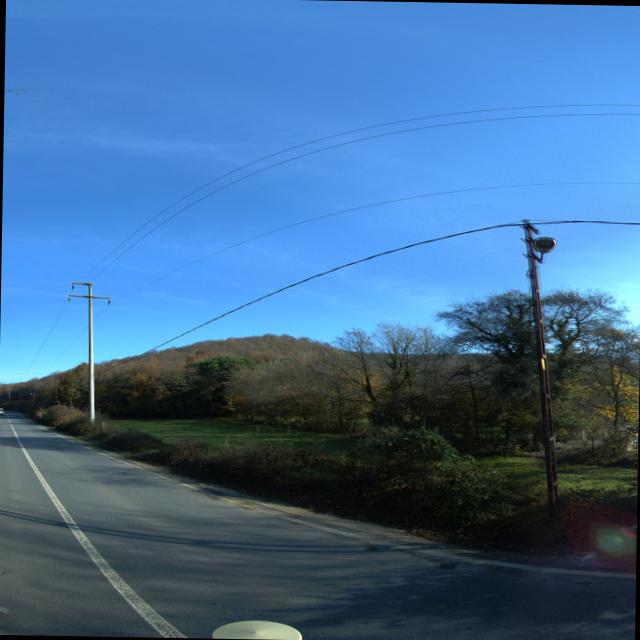Utility Pole Information Plate: (55, 402, 57, 404)
